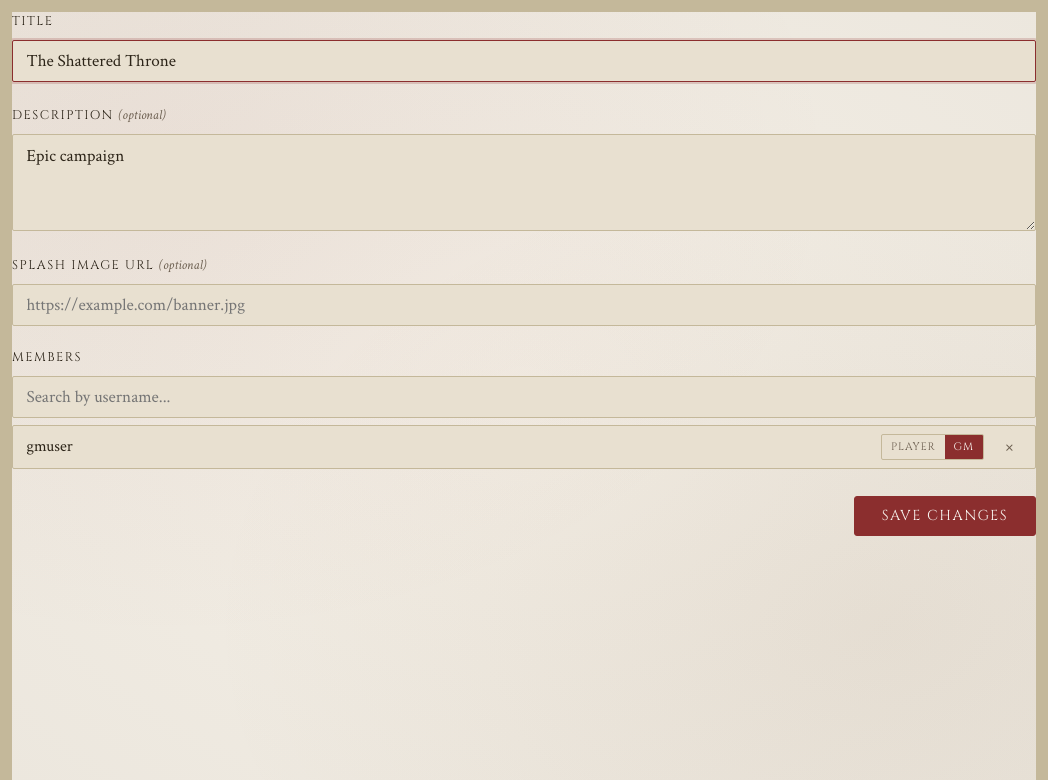
Test case: EditCampaignForm › should show validation error when title is cleared
The width and height of the screenshot is (1048, 780).
Clear the field showing "The Shattered Throne" at (524, 61), box [12,40,1036,82]
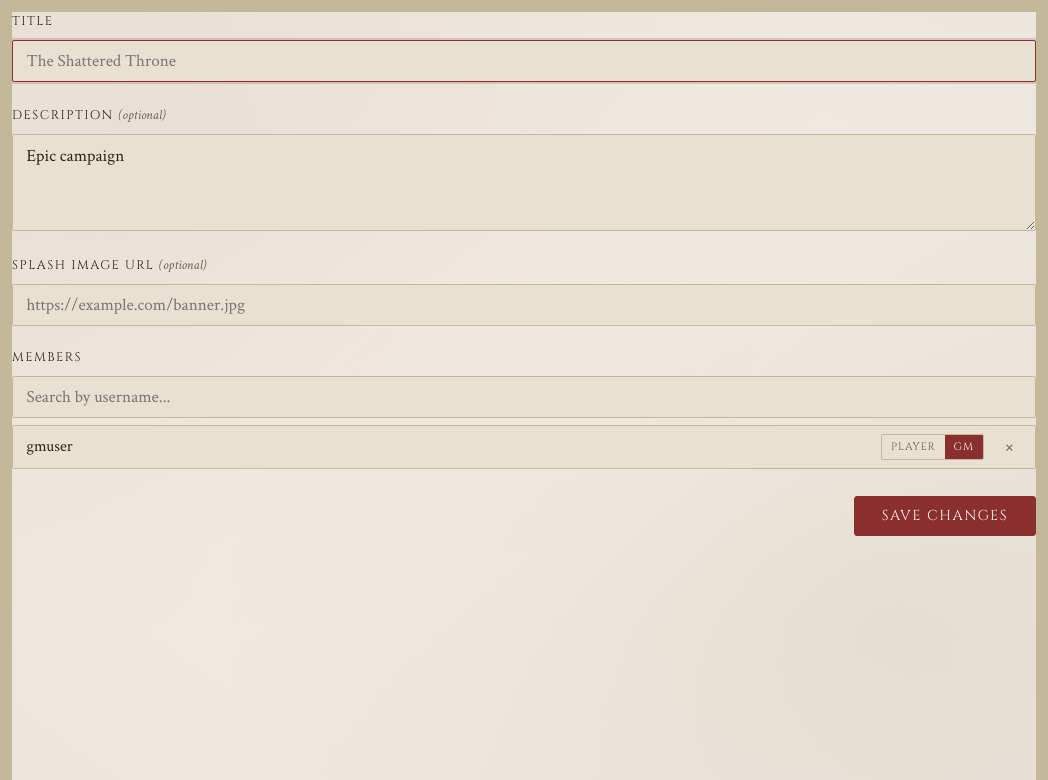
Click the button "Save Changes" at (945, 516), box [854,496,1036,536]
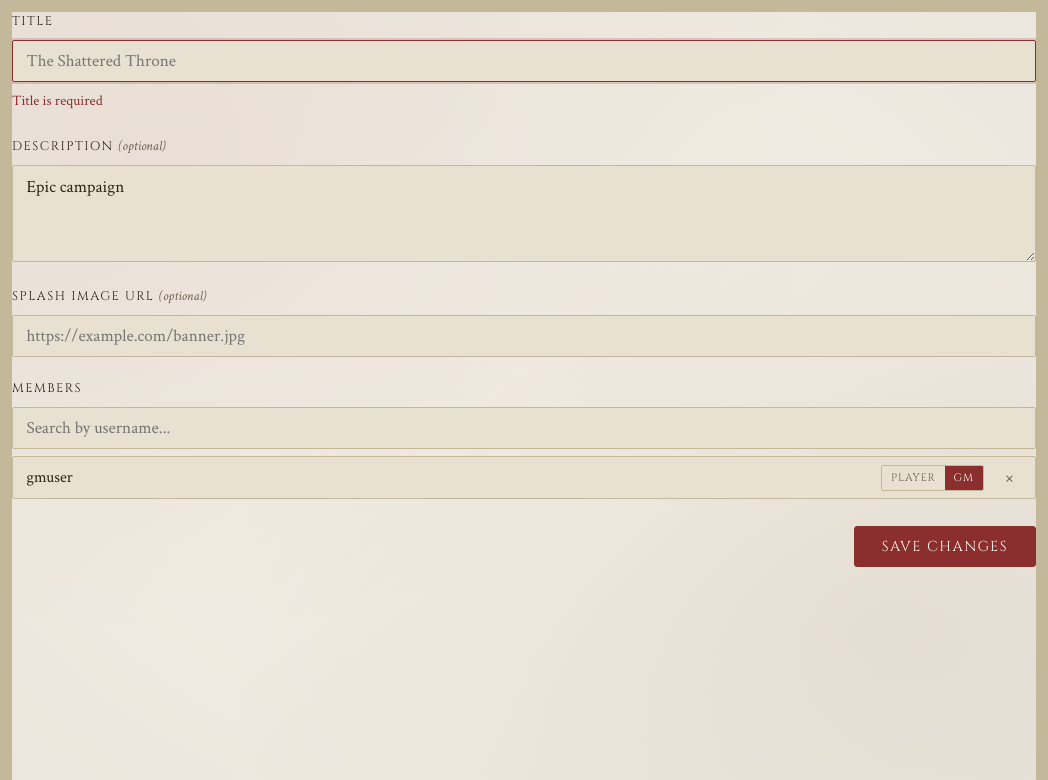
expect the text "Title is required" is shown: met, box [12,91,103,110]
